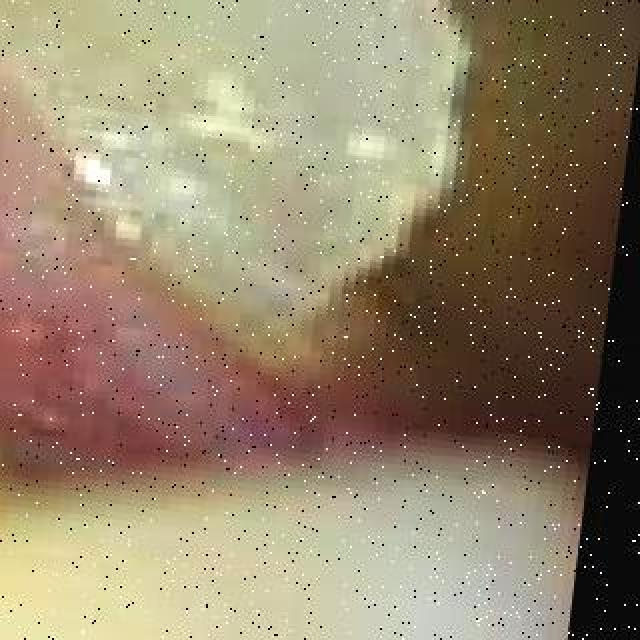cavities: (160, 0, 640, 428)
